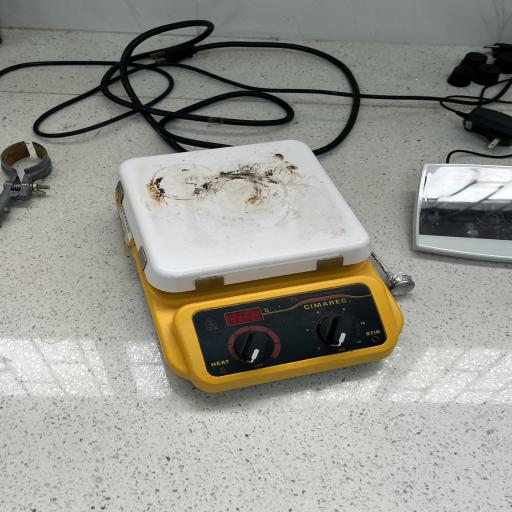Plancha_Agitacion_Cimarec: (108, 126, 416, 418)
